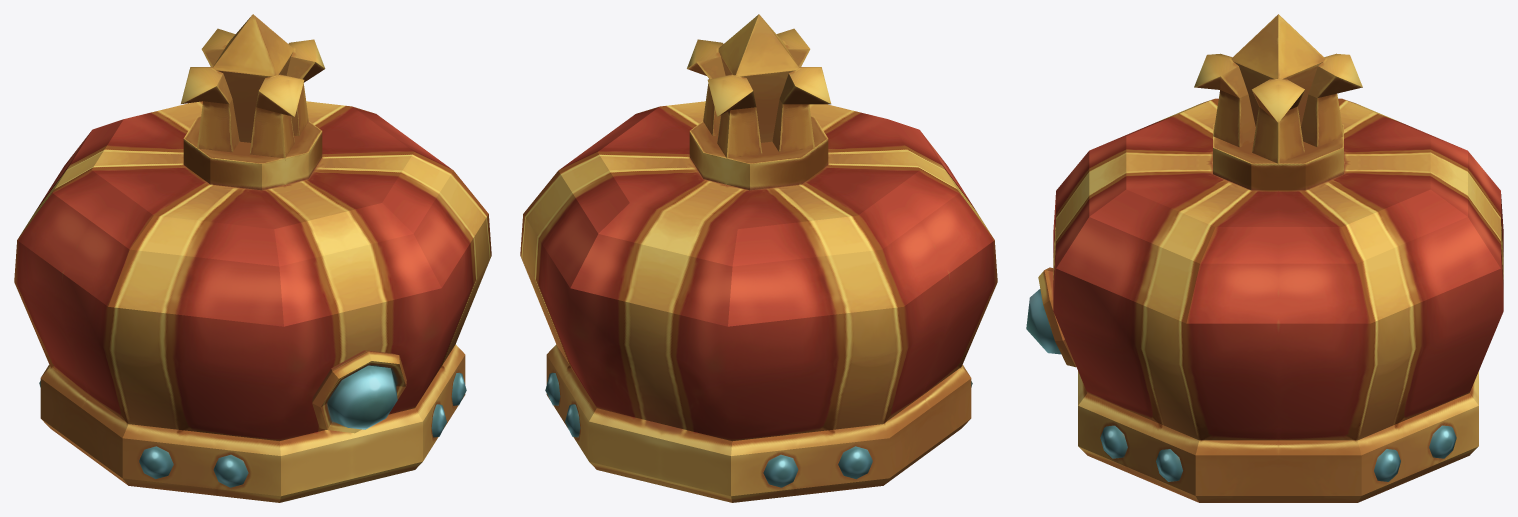
The model's file is 71_crown.FBX.
The picture shows the model from 3 angles, left to right: view 1: azimuth 30°, elevation 25°; view 2: azimuth 150°, elevation 25°; view 3: azimuth 270°, elevation 25°; orthographic projection.
Visible parts, largest first — view 1: Cylinder011; view 2: Cylinder011; view 3: Cylinder011.
Part boxes in pixels (x1,y1,x2,y2): Cylinder011: (14, 14, 491, 502); Cylinder011: (520, 14, 997, 502); Cylinder011: (1026, 14, 1503, 502).
Bounding box in the file's own units: 46.92 × 46.92 × 49.74.
